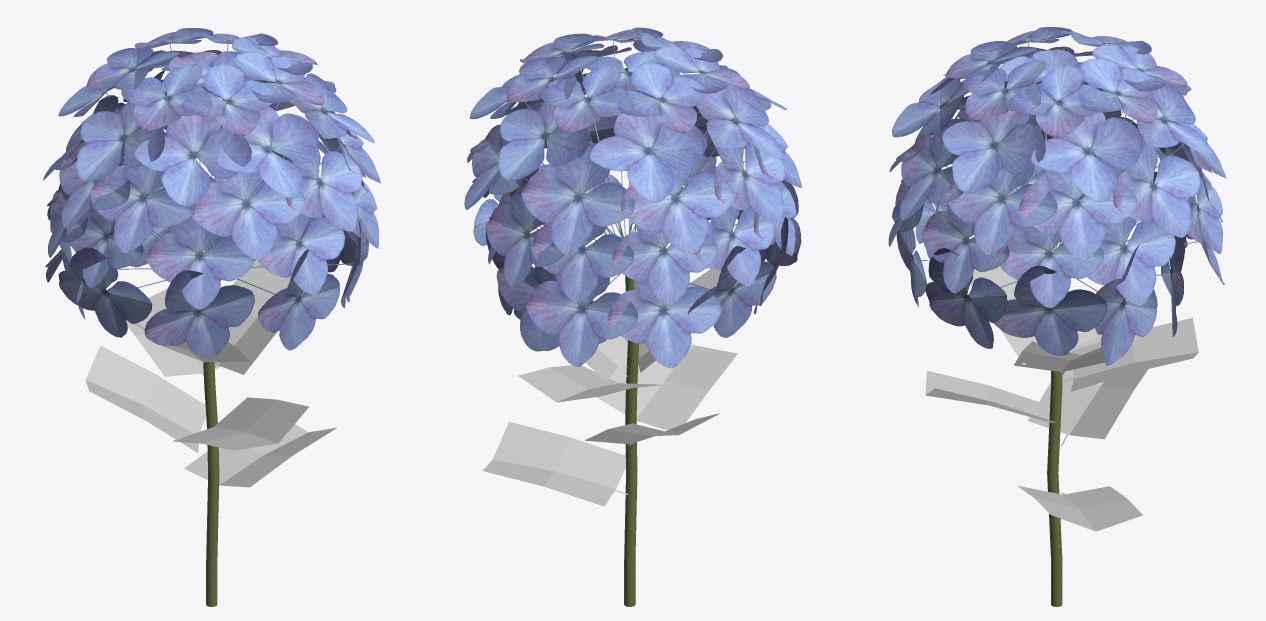
The model's file is Ajisai.fbx.
3 renders of one model, left to right at view 1: azimuth 30°, elevation 25°; view 2: azimuth 150°, elevation 25°; view 3: azimuth 270°, elevation 25°, orthographic.
Visible parts, largest first — view 1: AjisaiFlower.Parts, AjisaiLeafParts, Kuki; view 2: AjisaiFlower.Parts, AjisaiLeafParts, Kuki; view 3: AjisaiFlower.Parts, AjisaiLeafParts, Kuki.
Part boxes in pixels (left/top/right/bottom): AjisaiFlower.Parts: left=43, top=28, right=381, bottom=356; AjisaiLeafParts: left=85, top=260, right=336, bottom=487; Kuki: left=203, top=362, right=219, bottom=606; AjisaiFlower.Parts: left=464, top=27, right=801, bottom=368; AjisaiLeafParts: left=483, top=268, right=738, bottom=506; Kuki: left=624, top=275, right=638, bottom=606; AjisaiFlower.Parts: left=888, top=27, right=1226, bottom=365; AjisaiLeafParts: left=925, top=266, right=1198, bottom=531; Kuki: left=1047, top=370, right=1062, bottom=606.
Size of the model in its own units: 311 by 491 by 308.
